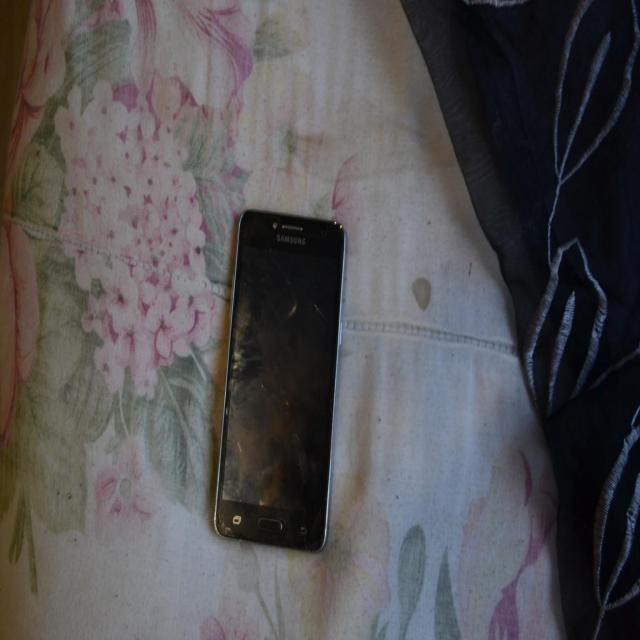Phone: (212, 206, 347, 554)
